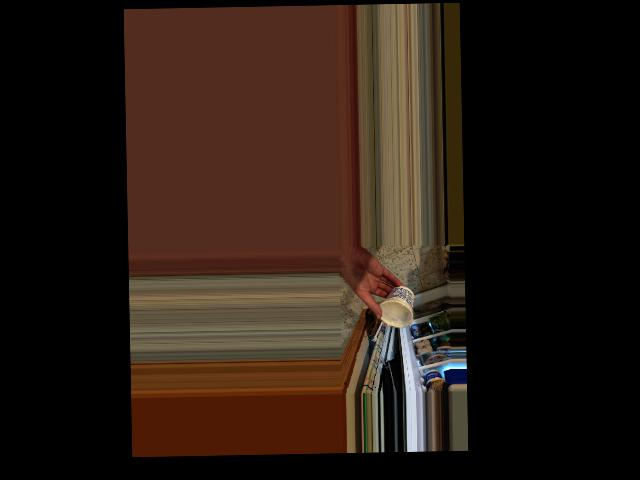cotage: (378, 284, 411, 328)
